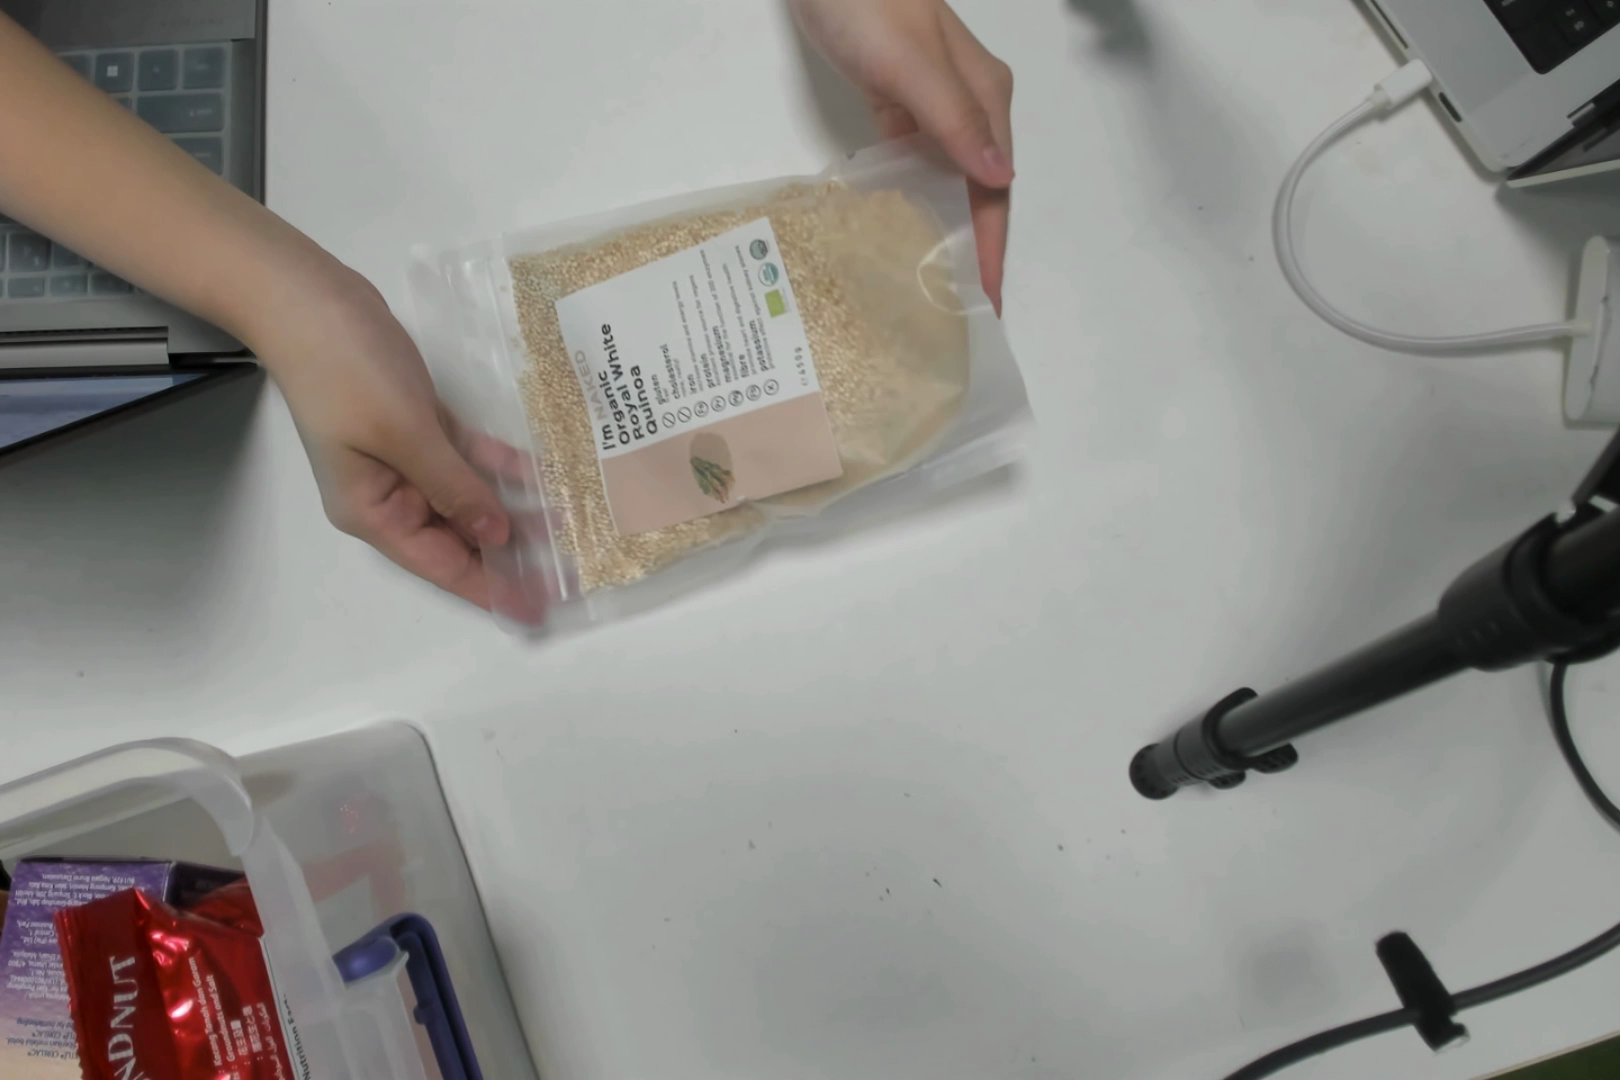Rice(brown-others)_400-499g_Halal_NonHealthy: (483, 181, 1049, 565)
